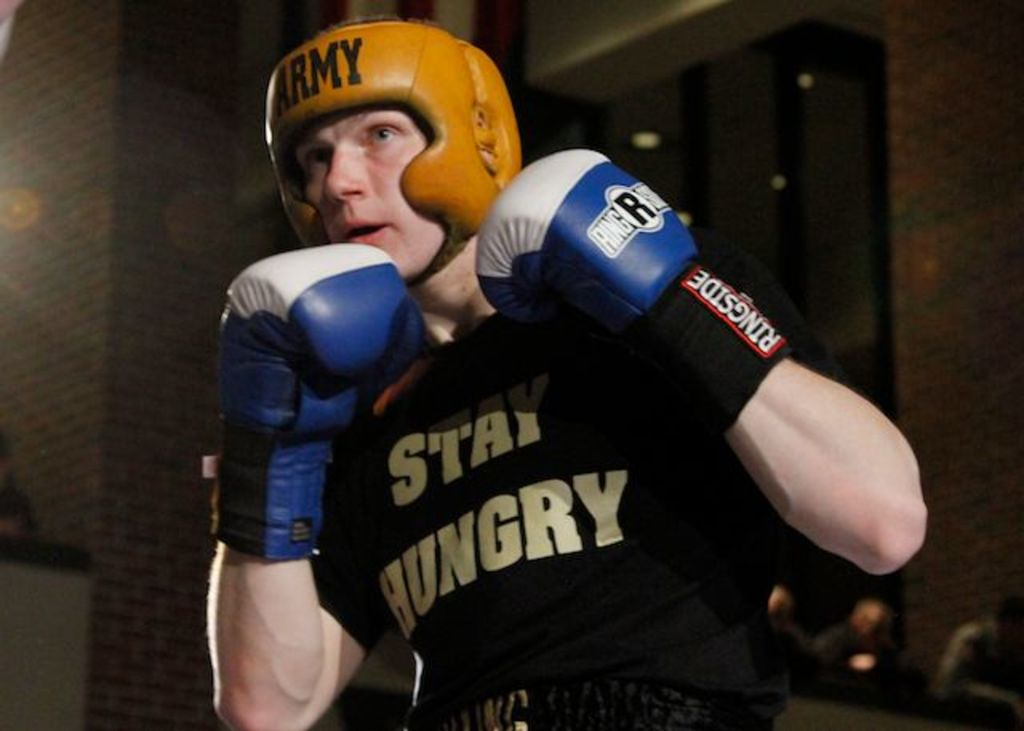Person: (205, 13, 927, 731)
